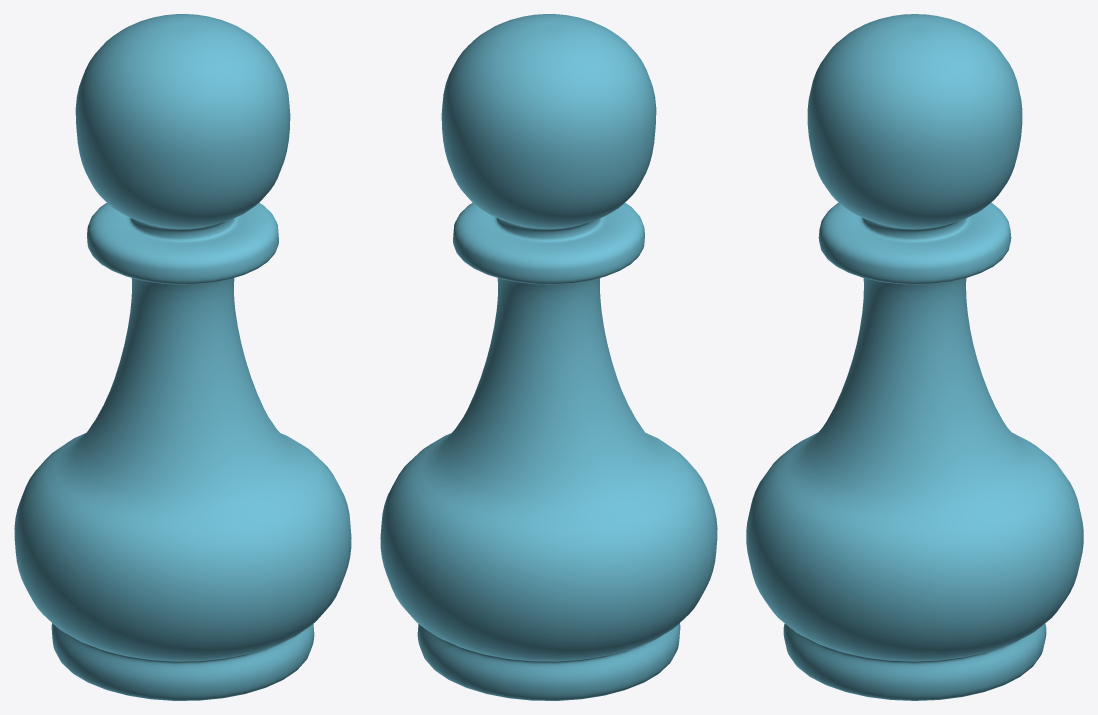
File: Pawn_Blue.fbx
3 views of the same model, side by side, from view 1: azimuth 30°, elevation 25°; view 2: azimuth 150°, elevation 25°; view 3: azimuth 270°, elevation 25° (orthographic).
Parts seen in each view (by area): view 1: Pawn_Blue; view 2: Pawn_Blue; view 3: Pawn_Blue.
Boxes of the visible parts, x1=… form: Pawn_Blue: x1=14, y1=14, x2=351, y2=700; Pawn_Blue: x1=380, y1=14, x2=717, y2=700; Pawn_Blue: x1=746, y1=14, x2=1083, y2=700.
Bounding box in the file's own units: 0.2641 × 0.5369 × 0.2641.
1 material, 1 textured.
